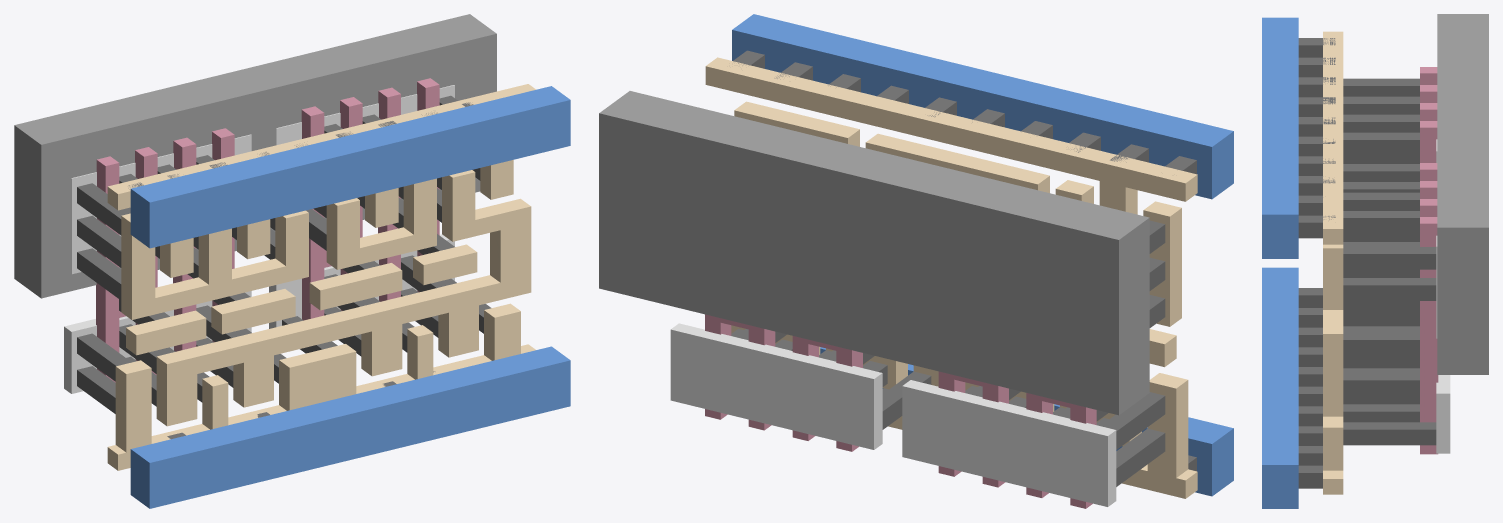
File: sky130_fd_sc_hd__nor4_2.gds.gltf
The picture shows the model from 3 angles, left to right: view 1: azimuth 30°, elevation 25°; view 2: azimuth 150°, elevation 25°; view 3: azimuth 270°, elevation 25°; orthographic projection. The views are drawn at different scales.
Parts seen in each view (by area): view 1: sky130_fd_sc_hd__nor4_2_li1, sky130_fd_sc_hd__nor4_2_met1, sky130_fd_sc_hd__nor4_2_nwell, sky130_fd_sc_hd__nor4_2_licon, sky130_fd_sc_hd__nor4_2_poly, sky130_fd_sc_hd__nor4_2_diff; view 2: sky130_fd_sc_hd__nor4_2_nwell, sky130_fd_sc_hd__nor4_2_diff, sky130_fd_sc_hd__nor4_2_li1, sky130_fd_sc_hd__nor4_2_met1, sky130_fd_sc_hd__nor4_2_licon, sky130_fd_sc_hd__nor4_2_poly, sky130_fd_sc_hd__nor4_2_mcon; view 3: sky130_fd_sc_hd__nor4_2_licon, sky130_fd_sc_hd__nor4_2_nwell, sky130_fd_sc_hd__nor4_2_met1, sky130_fd_sc_hd__nor4_2_mcon, sky130_fd_sc_hd__nor4_2_li1, sky130_fd_sc_hd__nor4_2_poly, sky130_fd_sc_hd__nor4_2_diff.
Part boxes in pixels (x1=…): sky130_fd_sc_hd__nor4_2_li1: x1=107, y1=84, x2=535, y2=470; sky130_fd_sc_hd__nor4_2_met1: x1=130, y1=86, x2=570, y2=508; sky130_fd_sc_hd__nor4_2_nwell: x1=14, y1=14, x2=496, y2=298; sky130_fd_sc_hd__nor4_2_licon: x1=77, y1=95, x2=491, y2=413; sky130_fd_sc_hd__nor4_2_poly: x1=96, y1=78, x2=439, y2=382; sky130_fd_sc_hd__nor4_2_diff: x1=64, y1=85, x2=454, y2=393; sky130_fd_sc_hd__nor4_2_nwell: x1=599, y1=91, x2=1149, y2=415; sky130_fd_sc_hd__nor4_2_diff: x1=670, y1=323, x2=1116, y2=506; sky130_fd_sc_hd__nor4_2_li1: x1=705, y1=57, x2=1197, y2=498; sky130_fd_sc_hd__nor4_2_met1: x1=732, y1=14, x2=1233, y2=496; sky130_fd_sc_hd__nor4_2_licon: x1=731, y1=220, x2=1165, y2=486; sky130_fd_sc_hd__nor4_2_poly: x1=705, y1=314, x2=1096, y2=508; sky130_fd_sc_hd__nor4_2_mcon: x1=733, y1=50, x2=1196, y2=471; sky130_fd_sc_hd__nor4_2_licon: x1=1343, y1=78, x2=1436, y2=445; sky130_fd_sc_hd__nor4_2_nwell: x1=1437, y1=14, x2=1488, y2=374; sky130_fd_sc_hd__nor4_2_met1: x1=1262, y1=17, x2=1298, y2=508; sky130_fd_sc_hd__nor4_2_mcon: x1=1298, y1=38, x2=1335, y2=488; sky130_fd_sc_hd__nor4_2_li1: x1=1323, y1=31, x2=1343, y2=494; sky130_fd_sc_hd__nor4_2_poly: x1=1420, y1=67, x2=1438, y2=454; sky130_fd_sc_hd__nor4_2_diff: x1=1436, y1=139, x2=1450, y2=453.
Size of the model in its own units: 4.98 by 3.2 by 2.24.
